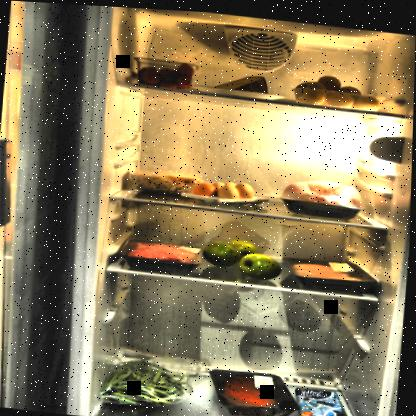apple: (199, 229, 288, 282)
beef: (205, 362, 307, 415)
cheese: (208, 64, 274, 96)
chicken: (279, 166, 371, 218), (278, 249, 382, 292)
chocolate: (293, 381, 355, 415)
eggs: (193, 174, 255, 203)
green_beans: (100, 351, 205, 415)
ground_beef: (115, 234, 207, 275)
potato: (287, 66, 387, 108)
strawberries: (136, 53, 197, 88)
